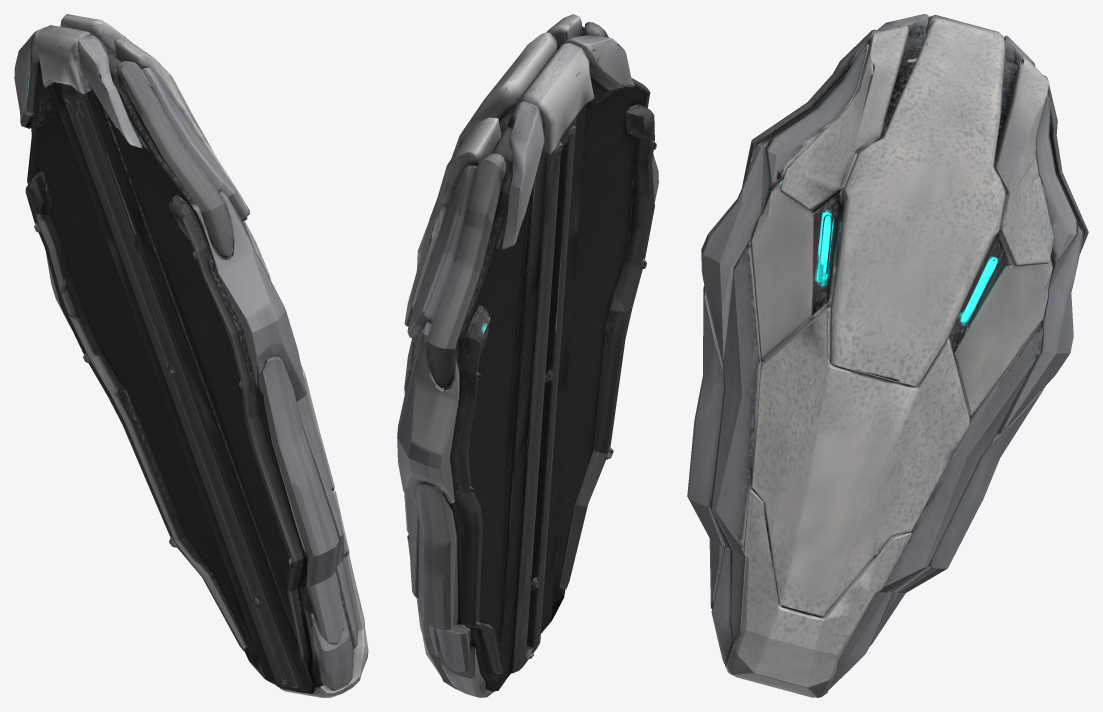
File: Shield_v061_Unity.fbx
The picture shows the model from 3 angles, left to right: view 1: azimuth 30°, elevation 25°; view 2: azimuth 150°, elevation 25°; view 3: azimuth 270°, elevation 25°; orthographic projection. The views are drawn at different scales.
Visible parts, largest first — view 1: Shield_Common_Center, Shield_Animated_Outer; view 2: Shield_Common_Center, Shield_Animated_Outer; view 3: Shield_Common_Center, Shield_Animated_Outer.
Boxes of the visible parts, <box> form: Shield_Common_Center: <box>14,14,349,651</box>; Shield_Animated_Outer: <box>14,54,368,697</box>; Shield_Common_Center: <box>404,14,654,656</box>; Shield_Animated_Outer: <box>397,22,658,697</box>; Shield_Common_Center: <box>715,14,1068,654</box>; Shield_Animated_Outer: <box>687,30,1088,697</box>.
Bounding box in the file's own units: 0.0858 × 0.2587 × 0.1526.
